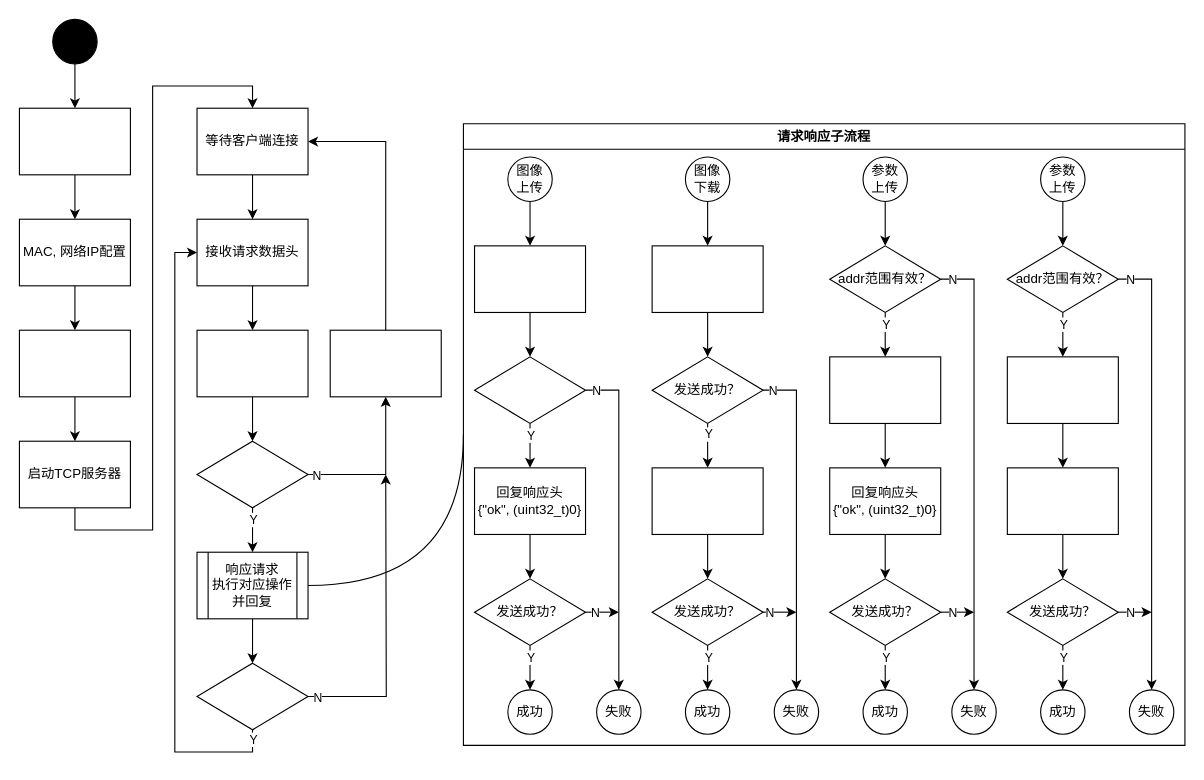
This 1204x780 diagram has some shape labels left out. Each missing label, with the centre of its shape:
从AXI总线读取 地址addr处的32位数据data: (x=1062, y=389)
全部读取成功？: (x=529, y=389)
初始化 FreeRTOS、 lwIP协议栈: (x=74, y=141)
初始化算法IP、DMA IP: (x=74, y=363)
向配置IP地址addr写入数据data: (x=885, y=389)
回复响应头 {"ok", (uint32_t)4, data}: (x=1062, y=500)
回复响应头 {"ok", [图像大小]}: (x=707, y=278)
执行成功？: (x=252, y=696)
断开客户端连接: (x=385, y=363)
解析请求: (x=252, y=363)
请求头有效？: (x=252, y=474)
读取DDR，发送width*height个 图像数据: (x=707, y=500)
读取width*height 像素的数据图像， 并存入DDR: (x=529, y=278)
